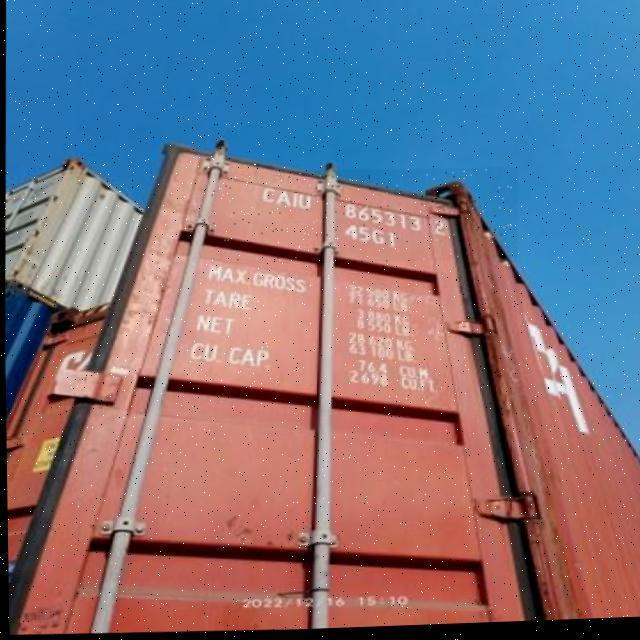container_number_h: (209, 165, 518, 271)
